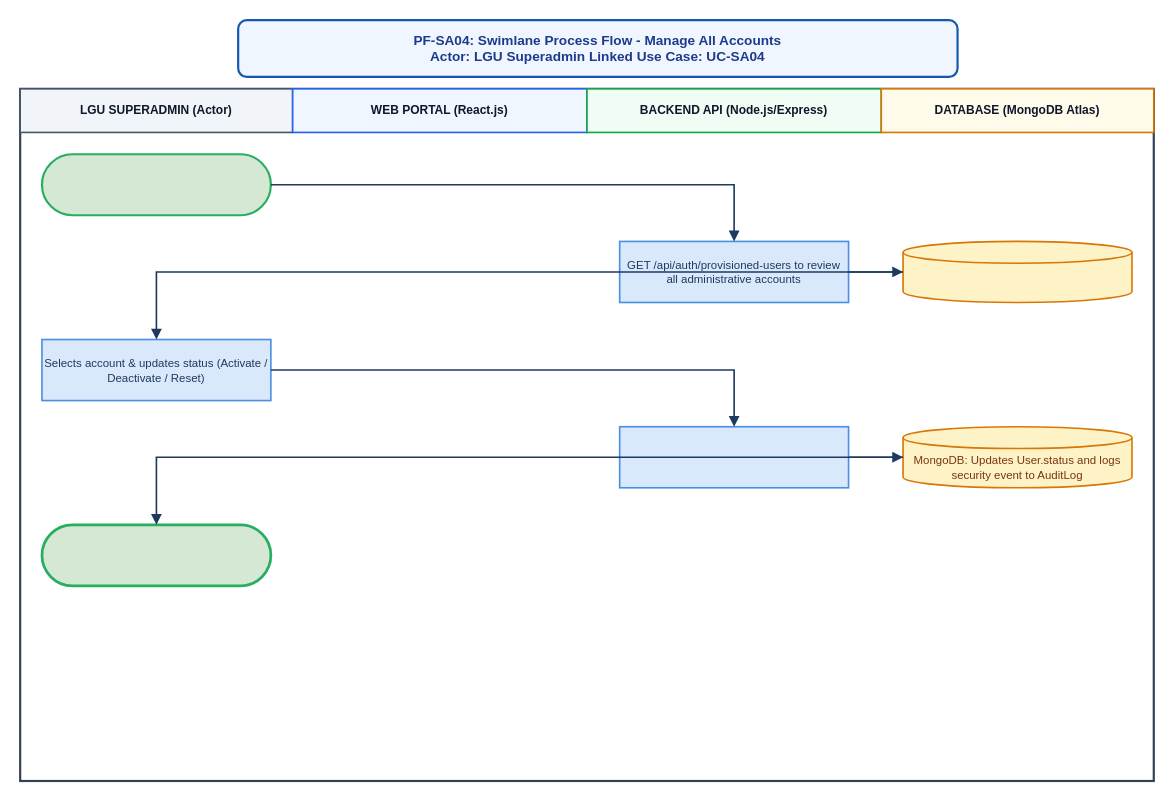
Some shapes in this 1173 by 800 pixel diagram are drawn without their labels. Each missing label, with the centre of its shape:
"END: User permissions synchronized" goes at (156,555).
"MongoDB: Queries User collection across all roles" goes at (1017,271).
"PATCH /api/auth/provisioned-users/:id/status with new status" goes at (733,456).
"START: Opens Provision Accounts (Executive)" goes at (155,184).
